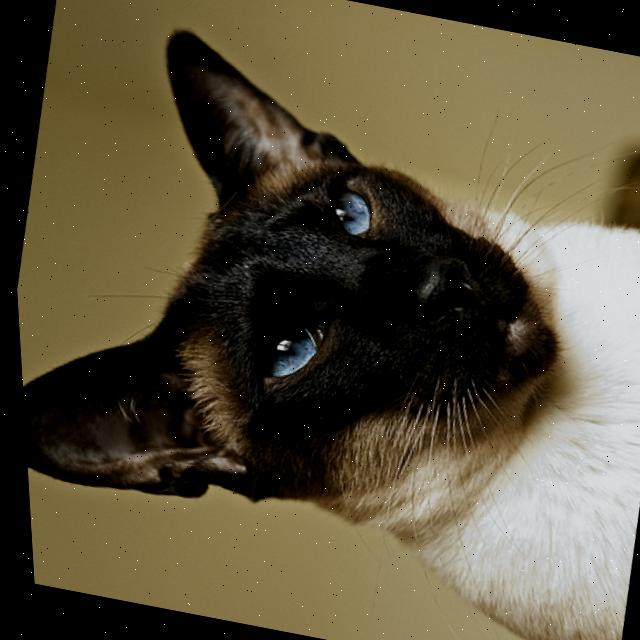Siamese: (0, 1, 640, 640)
